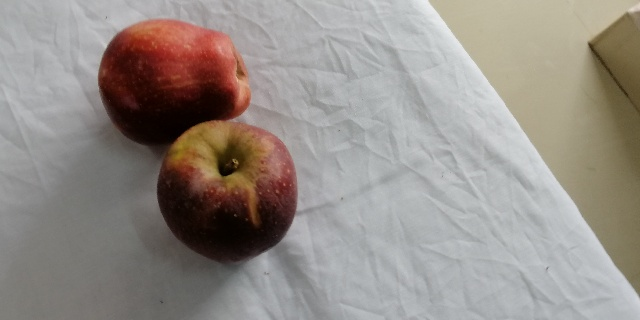apple_kashmir: (156, 119, 298, 263), (98, 18, 255, 146)
